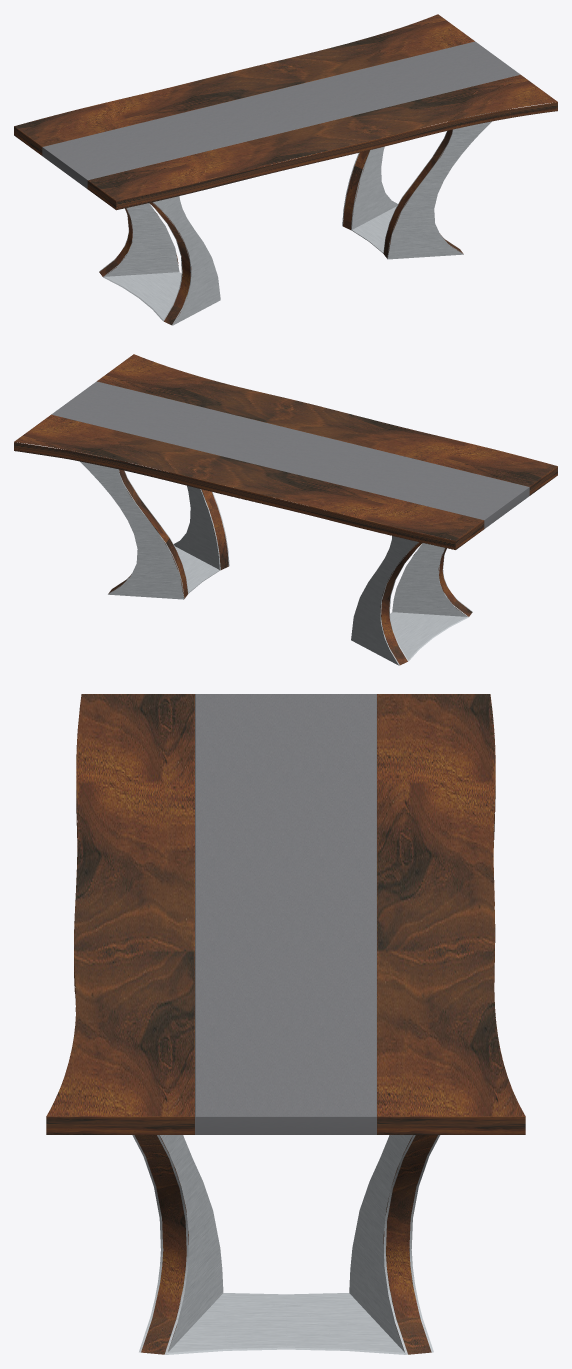
File: achelous.gltf
The picture shows the model from 3 angles, top to bottom: view 1: azimuth 30°, elevation 25°; view 2: azimuth 150°, elevation 25°; view 3: azimuth 270°, elevation 25°; orthographic projection. The views are drawn at different scales.
Visible parts, largest first — view 1: mesh_17; view 2: mesh_17; view 3: mesh_17.
Part boxes in pixels (x1,y1,x2,y2): mesh_17: (14, 14, 557, 325); mesh_17: (14, 354, 557, 665); mesh_17: (46, 694, 525, 1354).
Size of the model in its own units: 220 by 74 by 106.
Materials: 3 (3 with a texture image).
